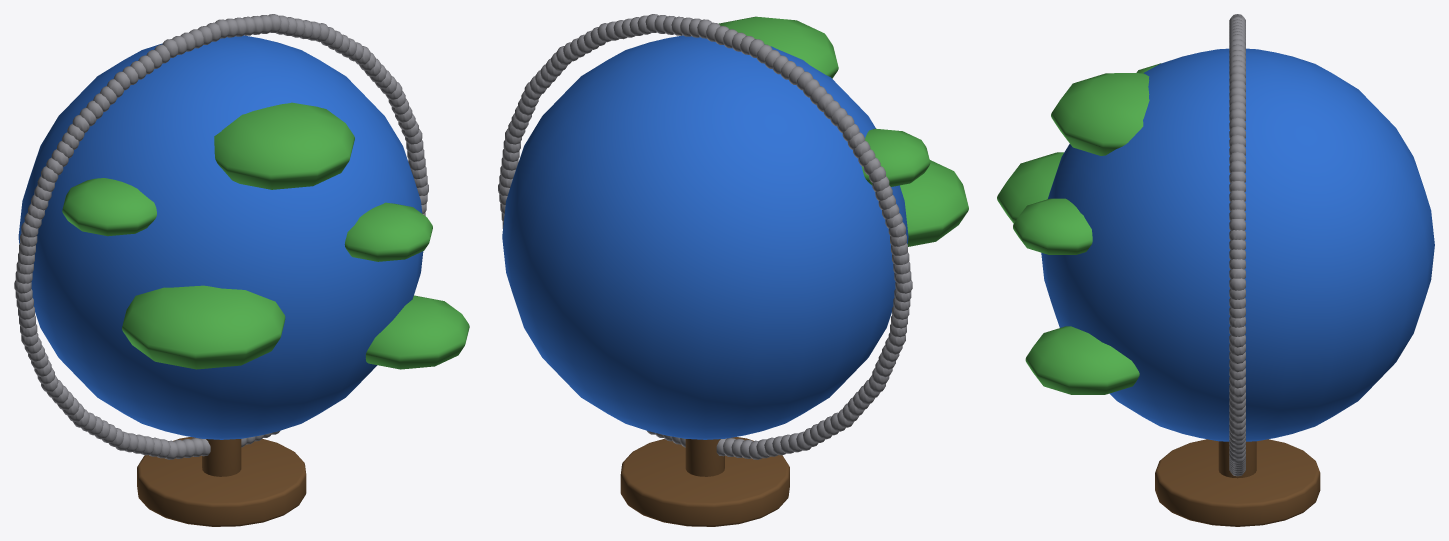
Rendered from globe.glb.
3 renders of one model, left to right at view 1: azimuth 30°, elevation 25°; view 2: azimuth 150°, elevation 25°; view 3: azimuth 270°, elevation 25°, orthographic. The views are drawn at different scales.
Visible parts, largest first — view 1: globe; view 2: globe; view 3: globe.
Part boxes in pixels (left/top/right/bottom): globe: left=14, top=14, right=469, bottom=526; globe: left=498, top=14, right=968, bottom=526; globe: left=997, top=14, right=1434, bottom=526.
Size of the model in its own units: 1.45 by 1.59 by 1.38.
